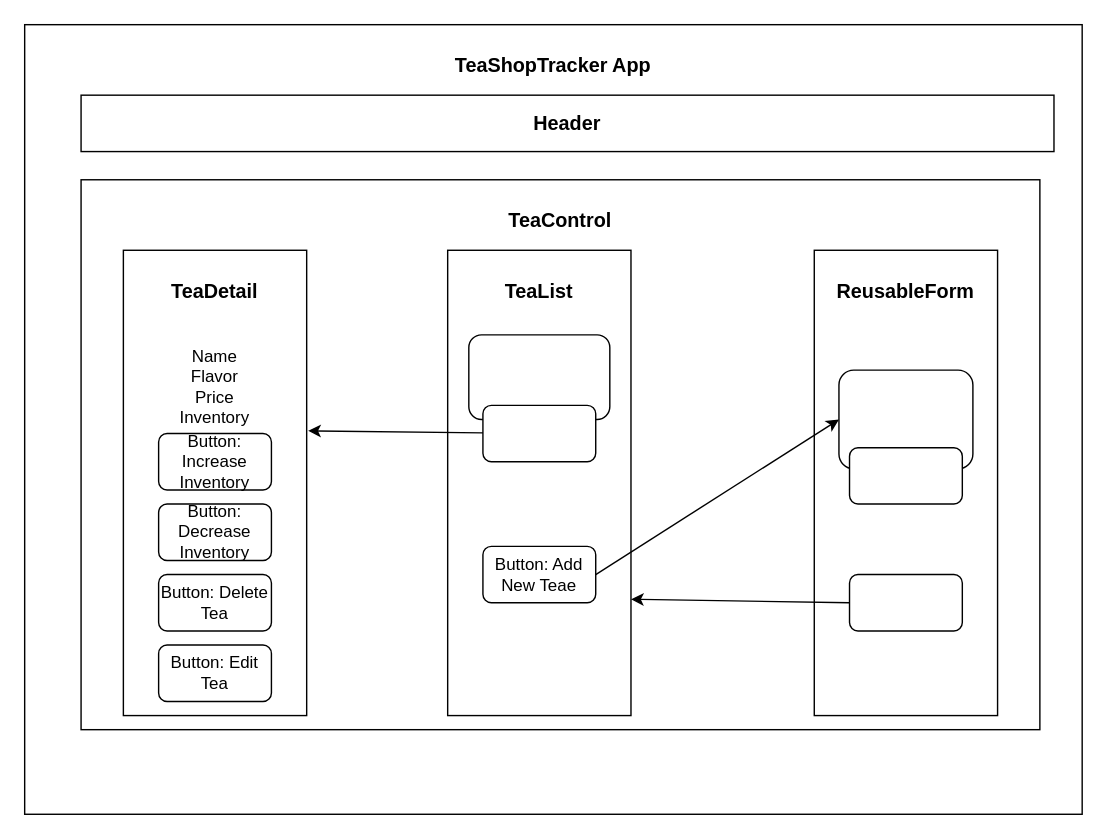
Some shapes in this 1107 by 839 pixel diagram are drawn without their labels. Here are the shapes that lost their labels. From the top down, the centre of each, then its label:
At (x=538, y=376): "Individual Tea Details".
At (x=539, y=433): "Click to see tea details".
At (x=905, y=419): "NewTea Create Form".
At (x=905, y=475): "Button: Submit new Tea".
At (x=905, y=602): "Button: Back to Tea List".
